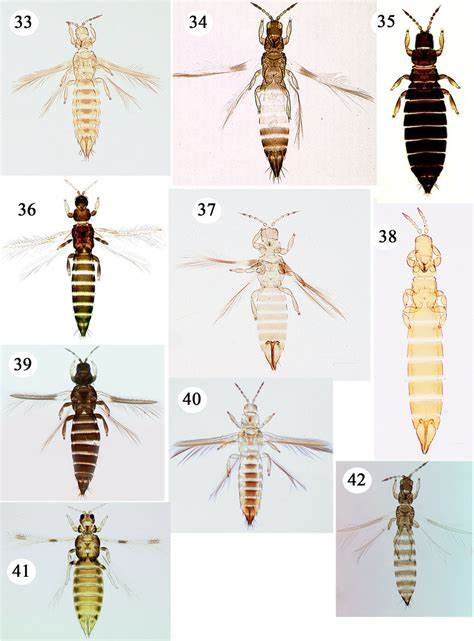Thripidae: (172, 1, 372, 184), (175, 208, 346, 372), (4, 181, 163, 336), (6, 344, 165, 499), (172, 382, 331, 528), (14, 15, 161, 159), (338, 464, 470, 610), (21, 507, 162, 634), (389, 7, 461, 200), (399, 208, 448, 453)
